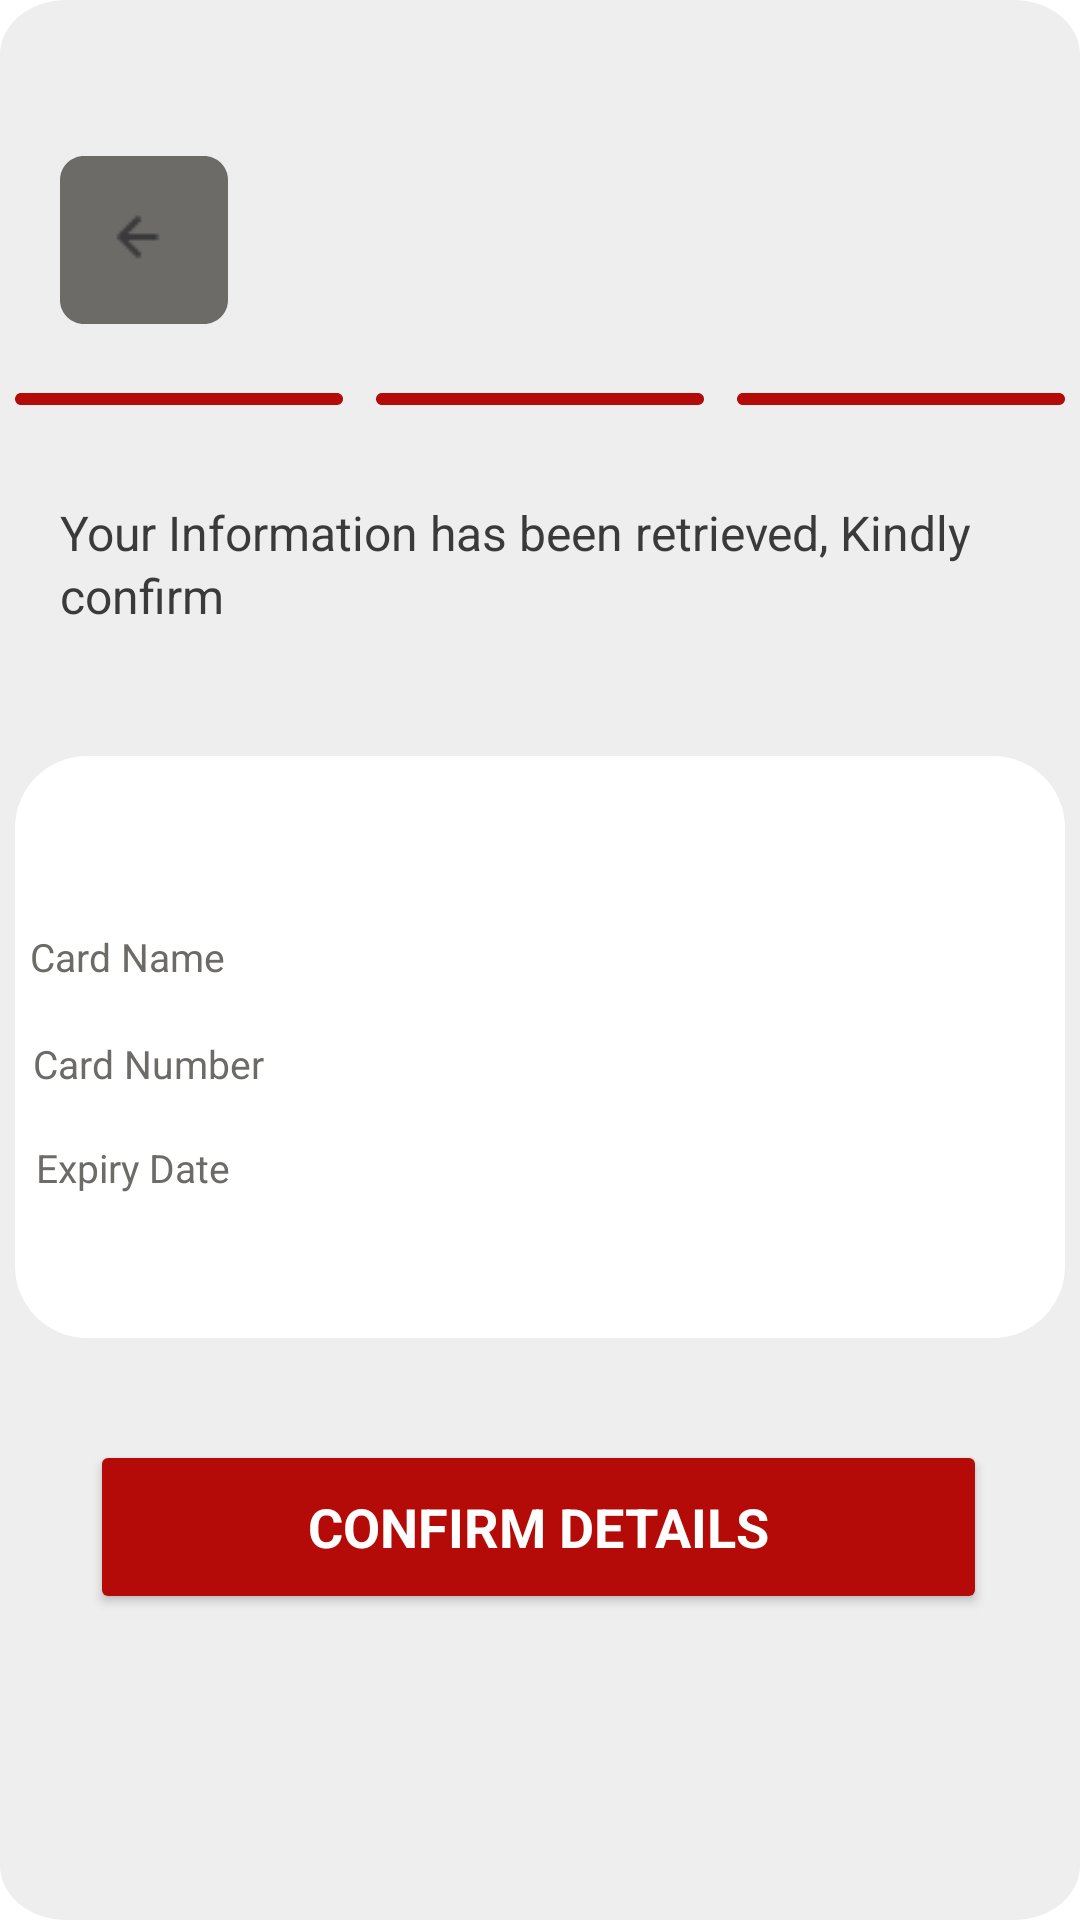

Icon bounding boxes for this 1080 × 1920 phone screenshot, format (x1, y1, x2, y2):
Back icon: (118, 217, 158, 257)
